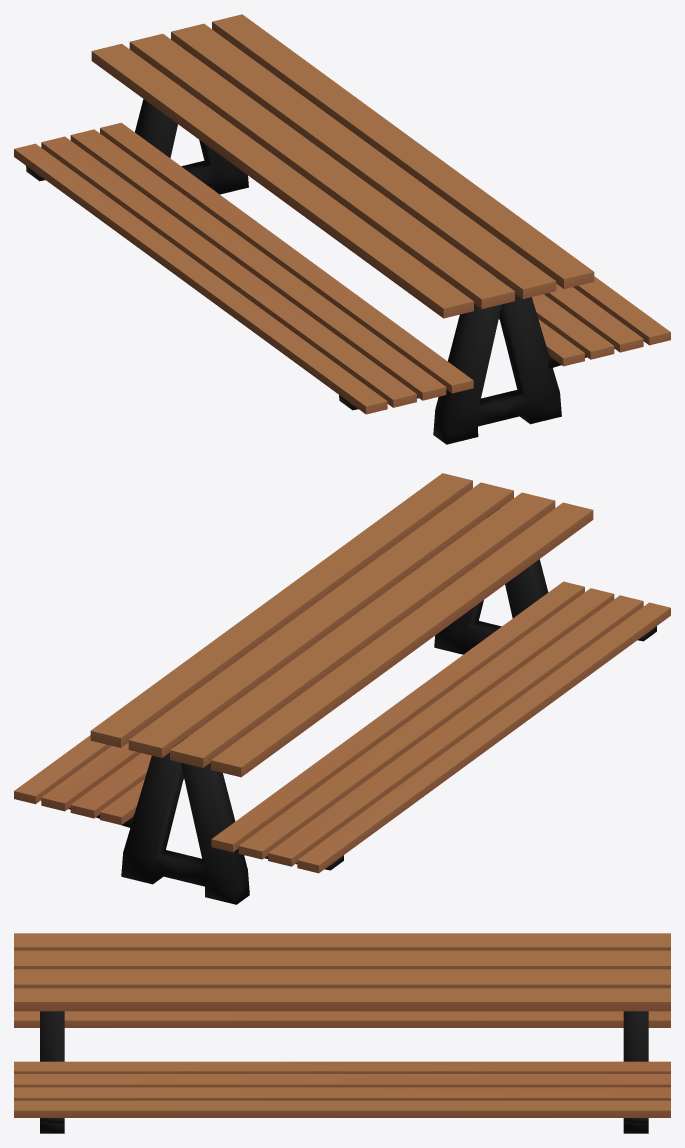
Rendered from PicnicTable.fbx.
3 renders of one model, top to bottom at view 1: azimuth 30°, elevation 25°; view 2: azimuth 150°, elevation 25°; view 3: azimuth 270°, elevation 25°, orthographic. The views are drawn at different scales.
Parts seen in each view (by area): view 1: PicnicBench; view 2: PicnicBench; view 3: PicnicBench.
Part boxes in pixels (left/top/right/bottom): PicnicBench: left=14, top=14, right=670, bottom=444; PicnicBench: left=14, top=473, right=670, bottom=904; PicnicBench: left=14, top=933, right=670, bottom=1133.
Size of the model in its own units: 200 by 94.12 by 400.
